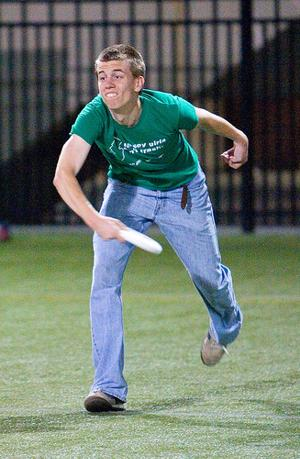person: (53, 45, 249, 415)
